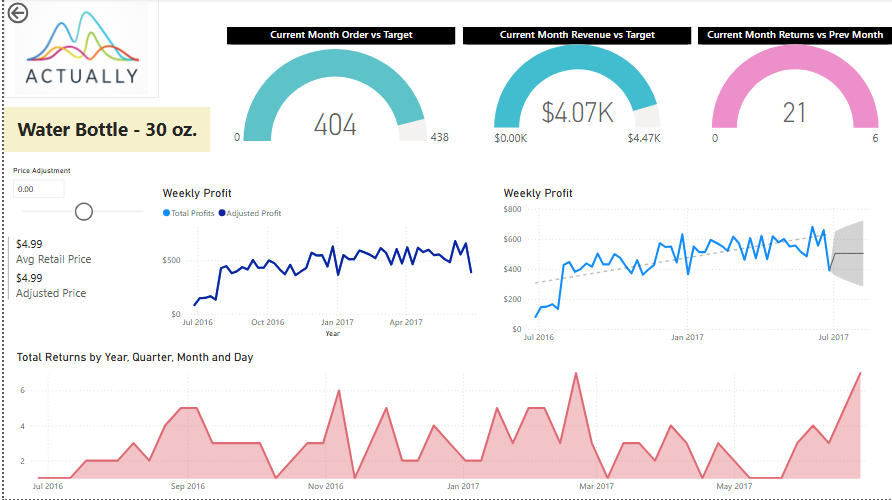

The page's visual inventory and layout, read from the dashboard file:
{"tool":"powerbi","page":{"name":"Product Detail","canvas":[1280,720],"ordinal":1},"visuals":[{"type":"image","box":[0,0,223.1,142.8],"z":0},{"type":"card","fields":{"Values":["Min(AdventureWorks_Products - 1721571213710.ProductName)"]},"box":[0,155.5,297.1,65],"z":1000},{"type":"actionButton","box":[0,0,100,40],"z":2000},{"type":"gauge","title":"Current Month Order vs Target","fields":{"Y":["All Sales.Total Orders"],"MaxValue":["All Sales.Order Target"]},"box":[321.5,39.8,329.2,180.7],"z":3000},{"type":"gauge","title":"Current Month Revenue vs Target","fields":{"Y":["All Sales.Total Revenue"],"MaxValue":["All Sales.Revenue Target"]},"box":[661.4,39.8,329.2,180.7],"z":4000},{"type":"gauge","title":"Current Month Returns vs Prev Month","fields":{"Y":["AdventureWorks_Returns - 1721571213715.Total Returns"],"MaxValue":["AdventureWorks_Returns - 1721571213715.Previous month Returns"]},"box":[1000,40,280,181],"z":5000},{"type":"slicer","fields":{"Values":["Price Adjustment.Price Adjustment"]},"box":[0,236.9,223.4,100.8],"z":6000},{"type":"multiRowCard","fields":{"Values":["AdventureWorks_Products - 1721571213710.Avg Retail Price","AdventureWorks_Products - 1721571213710.Adjusted Price"]},"box":[0,337,223.2,151.2],"z":7000},{"type":"lineChart","title":"Weekly Profit","fields":{"Y":["All Sales.Total Profits","All Sales.Adjusted Profit"],"Category":["AdventureWorks_Calendar - 1721571213649.Start of Week.Variation.Date Hierarchy.Year","AdventureWorks_Calendar - 1721571213649.Start of Week.Variation.Date Hierarchy.Quarter","AdventureWorks_Calendar - 1721571213649.Start of Week.Variation.Date Hierarchy.Month","AdventureWorks_Calendar - 1721571213649.Start of Week.Variation.Date Hierarchy.Day"]},"box":[223.2,269.3,479.5,223.2],"z":8000},{"type":"lineChart","title":"Weekly Profit","fields":{"Y":["All Sales.Total Profits"],"Category":["AdventureWorks_Calendar - 1721571213649.Start of Week.Variation.Date Hierarchy.Year","AdventureWorks_Calendar - 1721571213649.Start of Week.Variation.Date Hierarchy.Quarter","AdventureWorks_Calendar - 1721571213649.Start of Week.Variation.Date Hierarchy.Month","AdventureWorks_Calendar - 1721571213649.Start of Week.Variation.Date Hierarchy.Day"]},"box":[714.2,269.3,550.1,236.2],"z":8001},{"type":"areaChart","fields":{"Y":["AdventureWorks_Returns - 1721571213715.Total Returns"],"Category":["AdventureWorks_Calendar - 1721571213649.Start of Week.Variation.Date Hierarchy.Year","AdventureWorks_Calendar - 1721571213649.Start of Week.Variation.Date Hierarchy.Quarter","AdventureWorks_Calendar - 1721571213649.Start of Week.Variation.Date Hierarchy.Month","AdventureWorks_Calendar - 1721571213649.Start of Week.Variation.Date Hierarchy.Day"]},"box":[13,505.4,1251.4,214.6],"z":8002}]}

Visuals, with their boxes in screenshot pixels (x1, y1, x2, y2), scaled from the page's 1280x720 canvas onto the 892x500 screenshot:
image: [left=0, top=0, right=155, bottom=99]
card - Min(AdventureWorks_Products - 1721571213710.ProductName): [left=0, top=108, right=207, bottom=153]
actionButton: [left=0, top=0, right=70, bottom=28]
"Current Month Order vs Target" gauge: [left=224, top=28, right=453, bottom=153]
"Current Month Revenue vs Target" gauge: [left=461, top=28, right=690, bottom=153]
"Current Month Returns vs Prev Month" gauge: [left=697, top=28, right=891, bottom=153]
slicer - Price Adjustment.Price Adjustment: [left=0, top=165, right=156, bottom=235]
multiRowCard - AdventureWorks_Products - 1721571213710.Avg Retail Price x AdventureWorks_Products - 1721571213710.Adjusted Price: [left=0, top=234, right=156, bottom=339]
"Weekly Profit" lineChart: [left=156, top=187, right=490, bottom=342]
"Weekly Profit" lineChart: [left=498, top=187, right=881, bottom=351]
areaChart - AdventureWorks_Returns - 1721571213715.Total Returns x AdventureWorks_Calendar - 1721571213649.Start of Week.Variation.Date Hierarchy.Year: [left=9, top=351, right=881, bottom=499]
